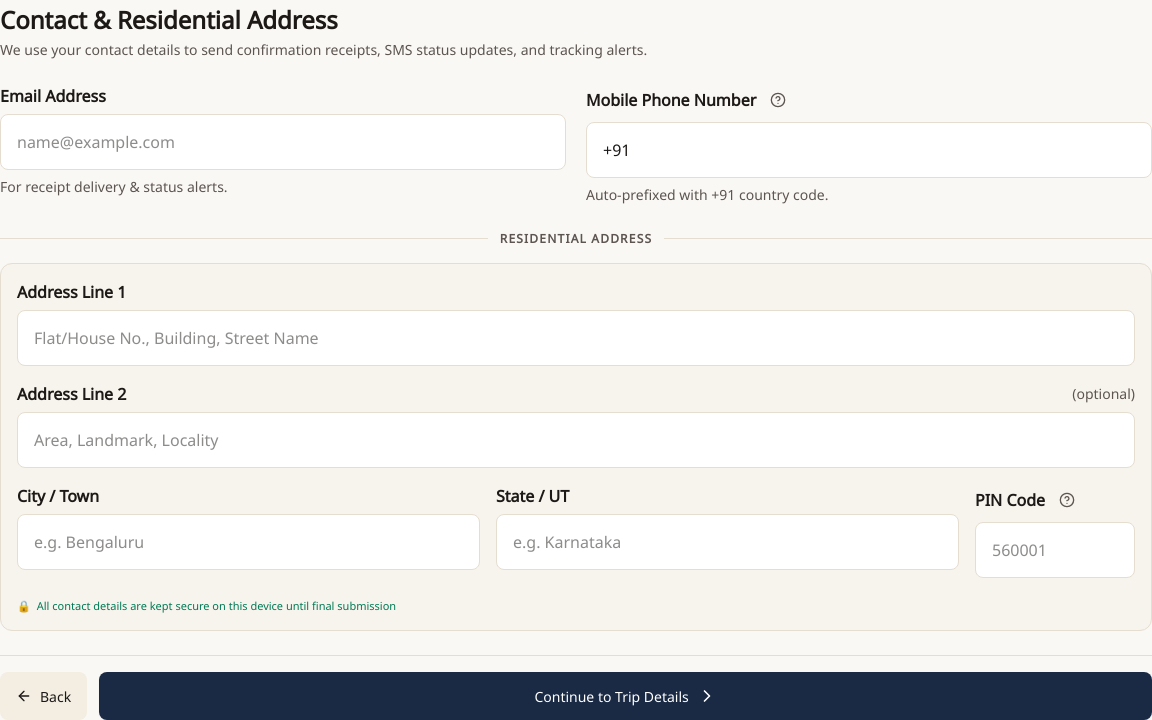
Test case: ContactStep Component (Stage 2b) › validates required fields and shows error summary when continue clicked with empty fields
The image size is (1152, 720).
(page scrolled)
What coordinates should you click on to do the following:
click the button "Continue to Trip Details"
I would click on:
 (626, 696)
Its box is [99,672,1151,719].
(page scrolled)
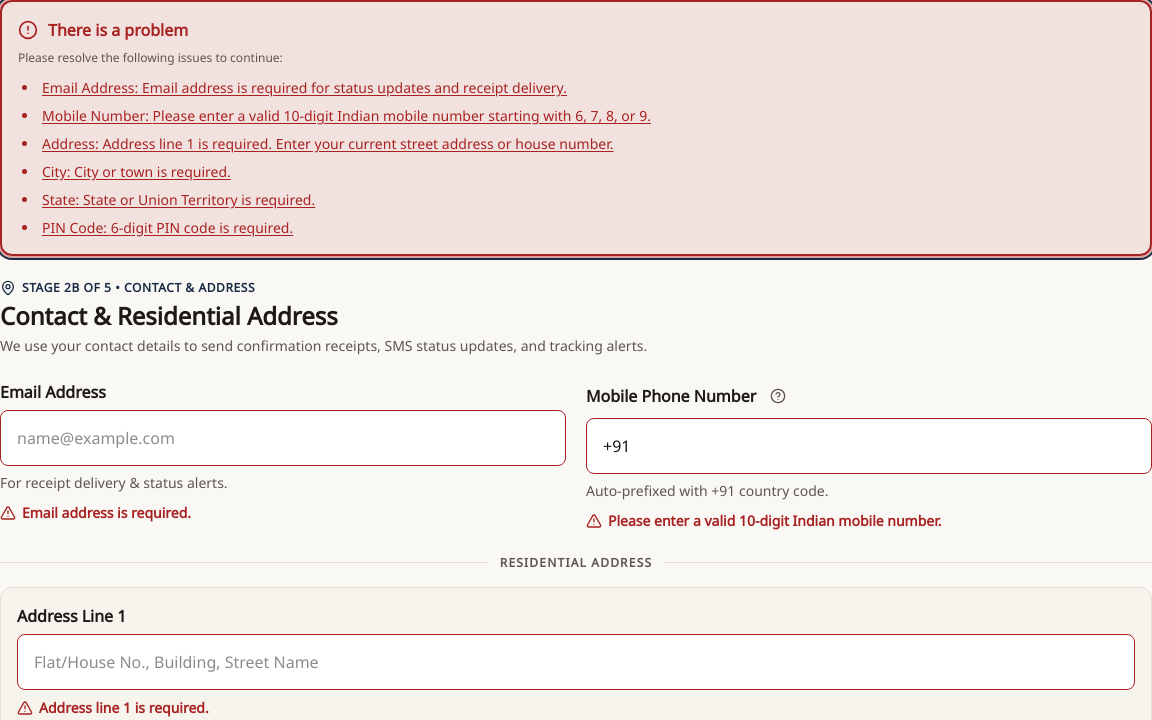
Check: the message that starts with "There is a problem" is shown, box [0,0,1151,256]
Check: the link "Email Address:" is shown, box [42,78,567,97]
Check: the link "Address: Address line 1 is required" is shown, box [42,134,614,153]
